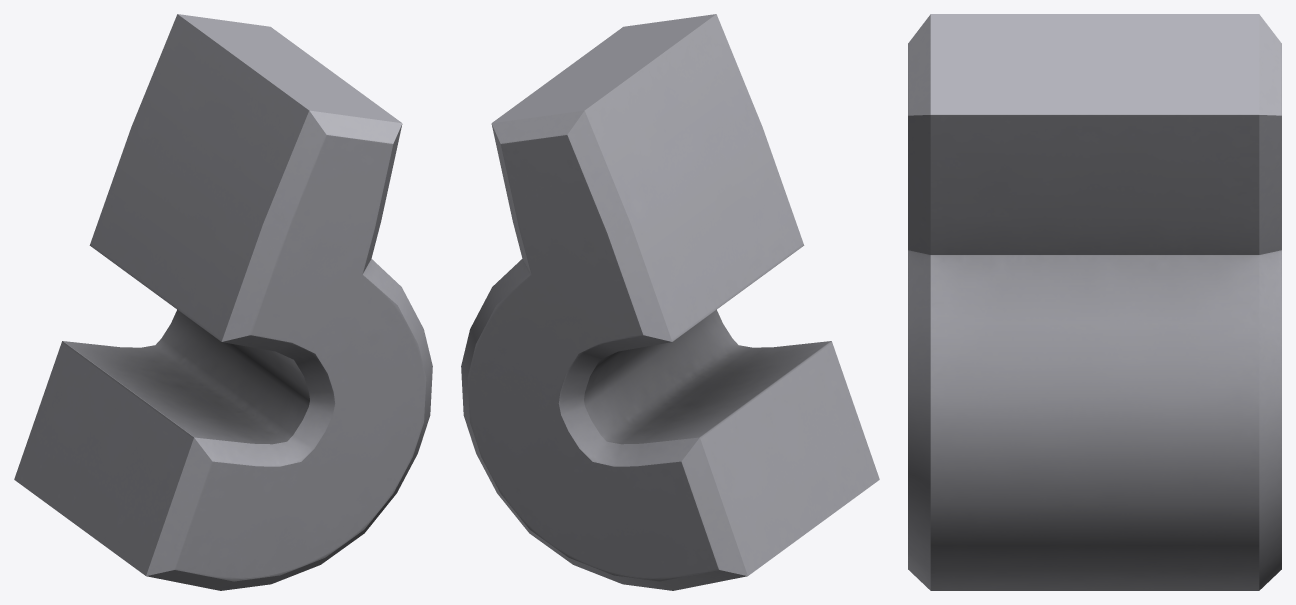
The model's file is Cedilla.FBX.
3 renders of one model, left to right at view 1: azimuth 30°, elevation 25°; view 2: azimuth 150°, elevation 25°; view 3: azimuth 270°, elevation 25°, orthographic. The views are drawn at different scales.
Visible parts, largest first — view 1: Cedilla; view 2: Cedilla; view 3: Cedilla.
Boxes of the visible parts, box(x1,y1,x2,y2) form: Cedilla: box(14, 14, 432, 590); Cedilla: box(461, 14, 879, 590); Cedilla: box(908, 14, 1281, 590).
Size of the model in its own units: 36.42 by 56.35 by 33.
